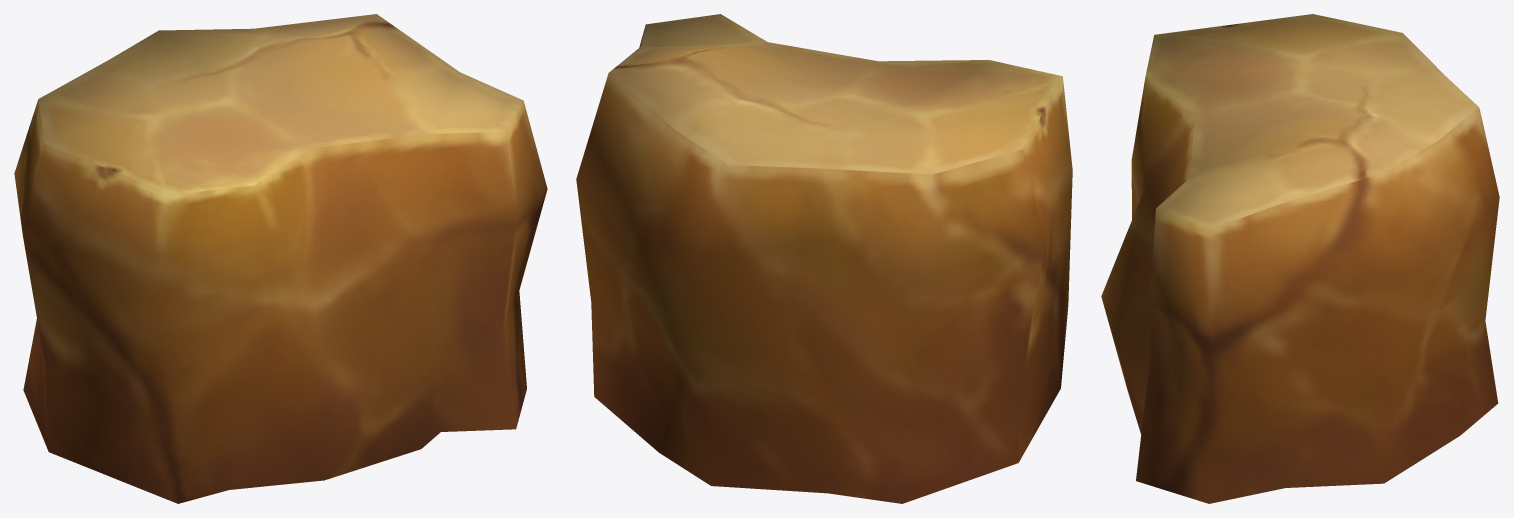
The model's file is Stage_ShaMo_ShiTou05.FBX.
3 views of the same model, side by side, from view 1: azimuth 30°, elevation 25°; view 2: azimuth 150°, elevation 25°; view 3: azimuth 270°, elevation 25° (orthographic). The views are drawn at different scales.
Visible parts, largest first — view 1: Stage_ShaMo_ShiTou05; view 2: Stage_ShaMo_ShiTou05; view 3: Stage_ShaMo_ShiTou05.
Part boxes in pixels (<box>): Stage_ShaMo_ShiTou05: <box>14,14,547,503</box>; Stage_ShaMo_ShiTou05: <box>576,14,1072,503</box>; Stage_ShaMo_ShiTou05: <box>1101,14,1499,503</box>.
Size of the model in its own units: 430 by 292 by 333.
